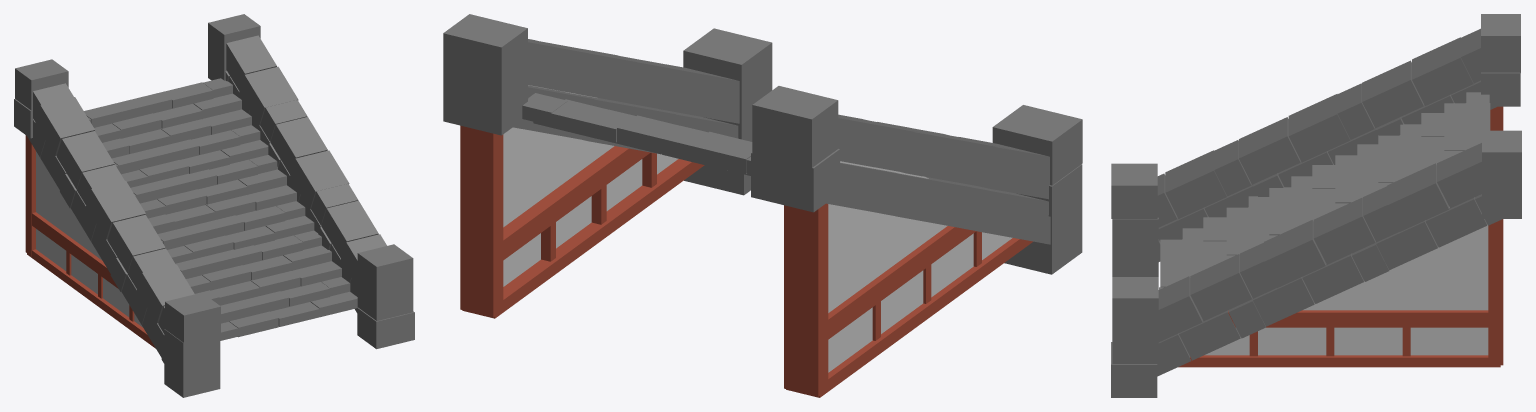
File: SM_staircase.fbx
The picture shows the model from 3 angles, left to right: view 1: azimuth 30°, elevation 25°; view 2: azimuth 150°, elevation 25°; view 3: azimuth 270°, elevation 25°; orthographic projection. The views are drawn at different scales.
Parts seen in each view (by area): view 1: Object32468; view 2: Object32468; view 3: Object32468.
Part boxes in pixels (x1,y1,x2,y2): Object32468: (14, 14, 414, 397); Object32468: (443, 14, 1082, 397); Object32468: (1111, 14, 1521, 397).
Size of the model in its own units: 209 by 178 by 265.
